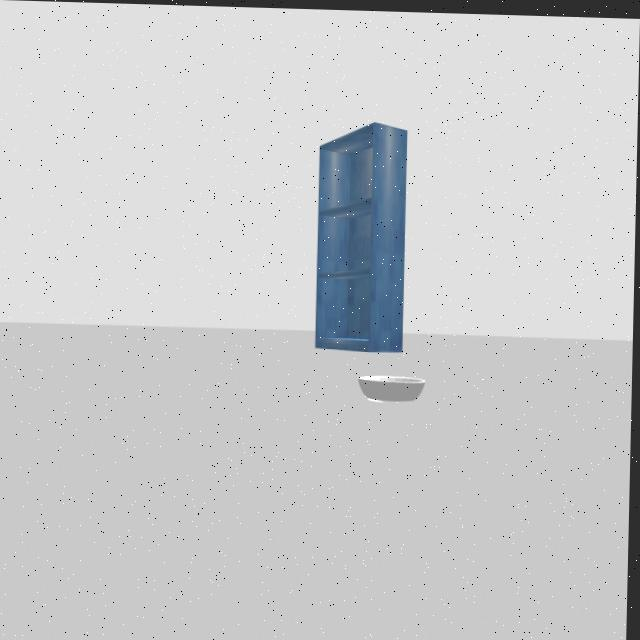bowl: (356, 365, 432, 422)
shelf: (297, 105, 438, 360)
